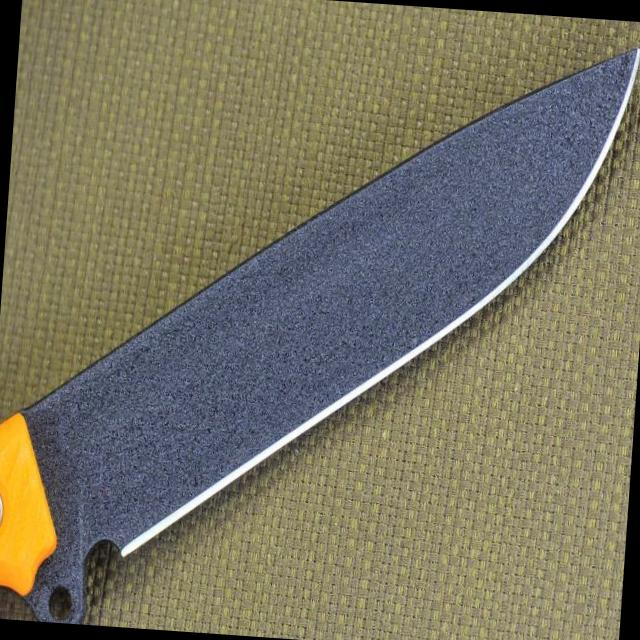Knife: (0, 49, 639, 623)
